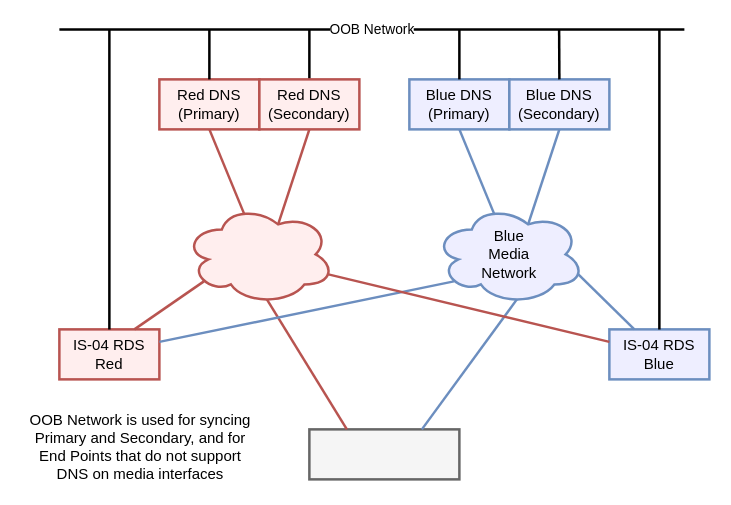
Some shapes in this 731 by 505 pixel diagram are drawn without their labels. The centre of each missing label's shape, as x and y in pixels:
Media End Point: pixel 384 454
Red Media Network: pixel 258 253
